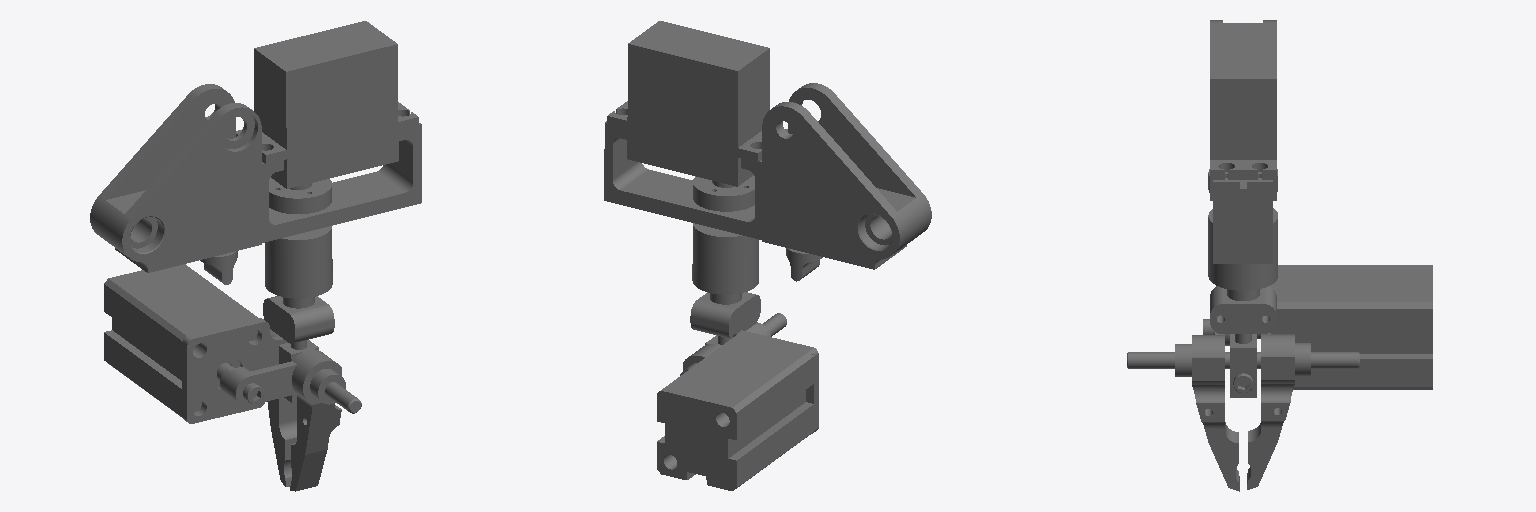
--- Render facts (derived) ---
The picture shows the robot from 3 angles, left to right: view 1: azimuth 30°, elevation 25°; view 2: azimuth 150°, elevation 25°; view 3: azimuth 270°, elevation 25°; orthographic projection.
Robot: magician — 14 links, 13 joints (6 revolute, 2 prismatic, 5 fixed); root link world; default pose: all joints at 0.
Links seen in each view (by area): view 1: wrist, tong_right, gripper_body, tong_left; view 2: wrist, tong_right, gripper_body; view 3: tong_right, wrist, gripper_body, tong_left.
Boxes of the visible links, box(x1,y1,x2,y2) form: wrist: box(90, 21, 421, 284); tong_right: box(104, 264, 296, 486); gripper_body: box(263, 226, 361, 413); tong_left: box(217, 349, 345, 491); wrist: box(604, 21, 931, 281); tong_right: box(657, 330, 818, 490); gripper_body: box(690, 223, 786, 345); tong_right: box(1247, 265, 1432, 489); wrist: box(1208, 20, 1277, 263); gripper_body: box(1127, 208, 1359, 397); tong_left: box(1175, 319, 1260, 491).
Size in the robot's own frame: 0.1078 by 0.092 by 0.1485 metres.
Meshes: 8 distinct files referenced, 4 mesh visuals loaded (4 Collada DAE); not drawn: 4 (reference not matched to a file when rendering).

robot.urdf — magician:
<?xml version="1.0" ?>
<!-- =================================================================================== -->
<!-- |    This document was autogenerated by xacro from /catkin_ws/src/dobot_DT/dobot_description/urdf/dobot.urdf.xacro | -->
<!-- |    EDITING THIS FILE BY HAND IS NOT RECOMMENDED                                 | -->
<!-- =================================================================================== -->
<!-- This URDF was automatically created by SolidWorks to URDF Exporter! Originally created by Stephen Brawner ([email redacted]) 
     Commit Version: 1.5.0-0-g9aa0fdb  Build Version: 1.5.7004.21443
     For more information, please see http://wiki.ros.org/sw_urdf_exporter -->
<robot name="magician">
    <!-- ros_control plugin -->
    <gazebo>
        <plugin filename="libgazebo_ros_control.so" name="gazebo_ros_control">
            <robotSimType>gazebo_ros_control/DefaultRobotHWSim</robotSimType>
            <legacyModeNS>true</legacyModeNS>
            <robotNamespace>/</robotNamespace>
        </plugin>
    </gazebo>
    <!-- MIMIC JOINTS -->
    <gazebo>
        <plugin filename="libroboticsgroup_gazebo_mimic_joint_plugin.so" name="mimic_plugin1">
            <joint>joint2</joint>
            <mimicJoint>joint2_1</mimicJoint>
            <multiplier>-1.0</multiplier>
        </plugin>
    </gazebo>
    <gazebo>
        <plugin filename="libroboticsgroup_gazebo_mimic_joint_plugin.so" name="mimic_plugin2">
            <joint>joint3</joint>
            <mimicJoint>joint3_1</mimicJoint>
            <multiplier>-1.0</multiplier>
        </plugin>
    </gazebo>
    <gazebo>
        <plugin filename="libroboticsgroup_gazebo_mimic_joint_plugin.so" name="mimic_plugin3">
            <joint>joint5</joint>
            <mimicJoint>joint5_1</mimicJoint>
            <multiplier>1.0</multiplier>
        </plugin>
    </gazebo>
    <!-- Decoration links-->
    <!--
	<gazebo>
                <plugin name="mimic_plugin4" filename="libroboticsgroup_gazebo_mimic_joint_plugin.so">
                        <joint>joint3</joint>
                        <mimicJoint>joint3_2</mimicJoint>
                        <multiplier>1.0</multiplier>
                </plugin>
	</gazebo>

	
	<gazebo>
                <plugin name="mimic_plugin5" filename="libroboticsgroup_gazebo_mimic_joint_plugin.so">
                        <joint>joint2</joint>
                        <mimicJoint>joint2_2</mimicJoint>
                        <multiplier>1.0</multiplier>
                </plugin>
        </gazebo>
	
	
        <gazebo>
                <plugin name="mimic_plugin6" filename="libroboticsgroup_gazebo_mimic_joint_plugin.so">
                        <joint>joint3</joint>
                        <mimicJoint>joint3_3</mimicJoint>
                        <multiplier>-1.0</multiplier>
                </plugin>
        </gazebo>

	
        <gazebo>
                <plugin name="mimic_plugin7" filename="libroboticsgroup_gazebo_mimic_joint_plugin.so">
                        <joint>joint2</joint>
                        <mimicJoint>joint2_3</mimicJoint>
                        <multiplier>1.0</multiplier>
                </plugin>
	</gazebo>

	
        <gazebo>
                <plugin name="mimic_plugin8" filename="libroboticsgroup_gazebo_mimic_joint_plugin.so">
                        <joint>joint2</joint>
                        <mimicJoint>joint2_4</mimicJoint>
                        <multiplier>-1.0</multiplier>
                </plugin>
        </gazebo>

	
        <gazebo>
                <plugin name="mimic_plugin9" filename="libroboticsgroup_gazebo_mimic_joint_plugin.so">
                        <joint>joint3</joint>
                        <mimicJoint>joint3_4</mimicJoint>
                        <multiplier>1.0</multiplier>
                </plugin>
        </gazebo>
	-->
    <!-- VISUAL -->
    <gazebo reference="arm">
        <visual name="visual">
            <material>
                <script>
                    <uri>file://media/materials/scripts/gazebo.material</uri>
                    <name>Gazebo/Grey</name>
                </script>
            </material>
        </visual>
    </gazebo>
    <gazebo reference="forearm">
        <visual name="visual">
            <material>
                <script>
                    <uri>file://media/materials/scripts/gazebo.material</uri>
                    <name>Gazebo/Grey</name>
                </script>
            </material>
        </visual>
    </gazebo>
    <gazebo reference="wrist">
        <visual name="visual">
            <material>
                <script>
                    <uri>file://media/materials/scripts/gazebo.material</uri>
                    <name>Gazebo/Grey</name>
                </script>
            </material>
        </visual>
    </gazebo>
    <gazebo reference="gripper_body">
        <visual name="visual">
            <material>
                <script>
                    <uri>file://media/materials/scripts/gazebo.material</uri>
                    <name>Gazebo/Grey</name>
                </script>
            </material>
        </visual>
    </gazebo>
    <gazebo reference="tong_left">
        <visual name="visual">
            <material>
                <script>
                    <uri>file://media/materials/scripts/gazebo.material</uri>
                    <name>Gazebo/Grey</name>
                </script>
            </material>
        </visual>
    </gazebo>
    <gazebo reference="tong_right">
        <visual name="visual">
            <material>
                <script>
                    <uri>file://media/materials/scripts/gazebo.material</uri>
                    <name>Gazebo/Grey</name>
                </script>
            </material>
        </visual>
    </gazebo>
    <!-- Decoration links -->
    <!--
	<gazebo reference="elipse">
                <visual name='visual'>
                        <material>
                                <script>
                                        <uri>file://media/materials/scripts/gazebo.material</uri>
                                        <name>Gazebo/Grey</name>
                                </script>
                        </material>
                </visual>
        </gazebo>

	
        <gazebo reference="bone_elipse">
                <visual name='visual'>
                        <material>
                                <script>
                                        <uri>file://media/materials/scripts/gazebo.material</uri>
                                        <name>Gazebo/Grey</name>
                                </script>
                        </material>
                </visual>
	</gazebo>

	
        <gazebo reference="bone_arm">
                <visual name='visual'>
                        <material>
                                <script>
                                        <uri>file://media/materials/scripts/gazebo.material</uri>
                                        <name>Gazebo/Grey</name>
                                </script>
                        </material>
                </visual>
        </gazebo>

	
        <gazebo reference="union_arm">
                <visual name='visual'>
                        <material>
                                <script>
                                        <uri>file://media/materials/scripts/gazebo.material</uri>
                                        <name>Gazebo/Grey</name>
                                </script>
                        </material>
                </visual>
	</gazebo>

	
        <gazebo reference="bone_forearm">
                <visual name='visual'>
                        <material>
                                <script>
                                        <uri>file://media/materials/scripts/gazebo.material</uri>
                                        <name>Gazebo/Grey</name>
                                </script>
                        </material>
                </visual>
	</gazebo>
	-->
    <!-- CAMERA -->
    <gazebo reference="camera_link">
        <material>Gazebo/White</material>
        <sensor name="camera" type="camera">
            <pose>0 0 0 0 0 0</pose>
            <visualize>true</visualize>
            <update_rate>10</update_rate>
            <camera name="camera">
                <horizontal_fov>1.089</horizontal_fov>
                <!--horizontal field of view (in rad)-->
                <image>
                    <format>R8G8B8</format>
                    <!--8 byts of Red, Green and Blue-->
                    <width>640</width>
                    <height>480</height>
                </image>
                <clip>
                    <near>0.01</near>
                    <!--See as close as 1 cm-->
                    <far>8.0</far>
                    <!--See as far as 8 m-->
                </clip>
            </camera>
            <plugin filename="libgazebo_ros_camera.so" name="camera_controller">
                <frameName>camera_link_optical</frameName>
                <!--Even though the plugin is attached to 'camera_link', the frame associated is-->
                <!--'camera_link_optical' so when it publishes the image data, the image data is-->
                <!--associated with 'camera_link_optical', although we are using the link-->
                <!--'camera_link'-->
                <imageTopicName>image_raw</imageTopicName>
                <cameraInfoTopicName>camera_info</cameraInfoTopicName>
                <cameraName>/dobot/camera</cameraName>
            </plugin>
        </sensor>
    </gazebo>
    <transmission name="joint1_trans">
        <type>transmission_interface/SimpleTransmission</type>
        <joint name="joint1">
            <hardwareInterface>hardware_interface/PositionJointInterface</hardwareInterface>
        </joint>
        <actuator name="joint1_motor">
            <mechanicalReduction>1</mechanicalReduction>
            <hardwareInterface>hardware_interface/EffortJointInterface</hardwareInterface>
        </actuator>
    </transmission>
    <transmission name="joint2_trans">
        <type>transmission_interface/SimpleTransmission</type>
        <joint name="joint2">
            <hardwareInterface>hardware_interface/PositionJointInterface</hardwareInterface>
        </joint>
        <actuator name="joint2_motor">
            <mechanicalReduction>1</mechanicalReduction>
            <hardwareInterface>hardware_interface/EffortJointInterface</hardwareInterface>
        </actuator>
    </transmission>
    <transmission name="joint2_1_trans">
        <type>transmission_interface/SimpleTransmission</type>
        <joint name="joint2_1">
            <hardwareInterface>hardware_interface/PositionJointInterface</hardwareInterface>
        </joint>
        <actuator name="joint2_1_motor">
            <mechanicalReduction>1</mechanicalReduction>
            <hardwareInterface>hardware_interface/EffortJointInterface</hardwareInterface>
        </actuator>
    </transmission>
    <transmission name="joint3_trans">
        <type>transmission_interface/SimpleTransmission</type>
        <joint name="joint3">
            <hardwareInterface>hardware_interface/PositionJointInterface</hardwareInterface>
        </joint>
        <actuator name="joint3_motor">
            <mechanicalReduction>1</mechanicalReduction>
            <hardwareInterface>hardware_interface/EffortJointInterface</hardwareInterface>
        </actuator>
    </transmission>
    <transmission name="joint3_1_trans">
        <type>transmission_interface/SimpleTransmission</type>
        <joint name="joint3_1">
            <hardwareInterface>hardware_interface/PositionJointInterface</hardwareInterface>
        </joint>
        <actuator name="joint3_1_motor">
            <mechanicalReduction>1</mechanicalReduction>
            <hardwareInterface>hardware_interface/EffortJointInterface</hardwareInterface>
        </actuator>
    </transmission>
    <transmission name="joint4_trans">
        <type>transmission_interface/SimpleTransmission</type>
        <joint name="joint4">
            <hardwareInterface>hardware_interface/PositionJointInterface</hardwareInterface>
        </joint>
        <actuator name="joint4_motor">
            <mechanicalReduction>1</mechanicalReduction>
            <hardwareInterface>hardware_interface/EffortJointInterface</hardwareInterface>
        </actuator>
    </transmission>
    <transmission name="joint5_trans">
        <type>transmission_interface/SimpleTransmission</type>
        <joint name="joint5">
            <hardwareInterface>hardware_interface/PositionJointInterface</hardwareInterface>
        </joint>
        <actuator name="joint5_motor">
            <mechanicalReduction>1</mechanicalReduction>
            <hardwareInterface>hardware_interface/EffortJointInterface</hardwareInterface>
        </actuator>
    </transmission>
    <transmission name="joint5_1_trans">
        <type>transmission_interface/SimpleTransmission</type>
        <joint name="joint5_1">
            <hardwareInterface>hardware_interface/PositionJointInterface</hardwareInterface>
        </joint>
        <actuator name="joint5_1_motor">
            <mechanicalReduction>1</mechanicalReduction>
            <hardwareInterface>hardware_interface/EffortJointInterface</hardwareInterface>
        </actuator>
    </transmission>
    <!-- Decoration links -->
    <!--
	<transmission name="joint3_2_trans">
                <type>transmission_interface/SimpleTransmission</type>
                <joint name="joint3_2">
                        <hardwareInterface>hardware_interface/PositionJointInterface</hardwareInterface>
                </joint>
                <actuator name="joint3_2_motor">
                        <mechanicalReduction>1</mechanicalReduction>
                </actuator>
        </transmission>

		
        <transmission name="joint2_2_trans">
                <type>transmission_interface/SimpleTransmission</type>
                <joint name="joint2_2">
                        <hardwareInterface>hardware_interface/PositionJointInterface</hardwareInterface>
                </joint>
                <actuator name="joint2_2_motor">
                        <mechanicalReduction>1</mechanicalReduction>
                </actuator>
        </transmission>
	
	
        <transmission name="joint3_3_trans">
                <type>transmission_interface/SimpleTransmission</type>
                <joint name="joint3_3">
                        <hardwareInterface>hardware_interface/PositionJointInterface</hardwareInterface>
                </joint>
                <actuator name="joint3_3_motor">
                        <mechanicalReduction>1</mechanicalReduction>
                </actuator>
        </transmission>

	
        <transmission name="joint2_3_trans">
                <type>transmission_interface/SimpleTransmission</type>
                <joint name="joint2_3">
                        <hardwareInterface>hardware_interface/PositionJointInterface</hardwareInterface>
                </joint>
                <actuator name="joint2_3_motor">
                        <mechanicalReduction>1</mechanicalReduction>
                </actuator>
	</transmission>

	
        <transmission name="joint2_4_trans">
                <type>transmission_interface/SimpleTransmission</type>
                <joint name="joint2_4">
                        <hardwareInterface>hardware_interface/PositionJointInterface</hardwareInterface>
                </joint>
                <actuator name="joint2_4_motor">
                        <mechanicalReduction>1</mechanicalReduction>
                </actuator>
        </transmission>

	
        <transmission name="joint3_4_trans">
                <type>transmission_interface/SimpleTransmission</type>
                <joint name="joint3_4">
                        <hardwareInterface>hardware_interface/PositionJointInterface</hardwareInterface>
                </joint>
                <actuator name="joint3_4_motor">
                        <mechanicalReduction>1</mechanicalReduction>
                </actuator>
	</transmission>
	-->
    <material name="white">
        <color rgba="1 1 1 1" />
    </material>
    <link name="world" />
    <link name="origin" />
    <joint name="world_joint" type="fixed">
        <origin rpy="0 0 0" xyz="0 0 0" />
        <parent link="world" />
        <child link="origin" />
        <axis xyz="0 0 0" />
    </joint>
    <link name="base">
        <inertial>
            <origin rpy="0 0 0" xyz="-0.000406699 -0.000364555 0.026663954" />
            <mass value="0.264204843750" />
            <inertia ixx="0.000873183424" ixy="-1.83300825E-06" ixz="-5.1220777344E-08" iyy="0.000847449600" iyz="4.185195E-06" izz="0.001554581504" />
        </inertial>
        <visual>
            <origin rpy="3.141593 0 -1.570796" xyz="0.069 0.06903 0.051" />
            <geometry>
                <mesh filename="package://dobot_description/meshes_polman_dae/base.dae" />
            </geometry>
            <material name="">
                <color rgba="1 1 1 1" />
            </material>
        </visual>
        <collision>
            <origin rpy="3.141593 0 -1.570796" xyz="0.069 0.06903 0.051" />
            <geometry>
                <mesh filename="package://dobot_description/meshes_polman_dae/base.dae" />
            </geometry>
        </collision>
    </link>
    <joint name="base_joint" type="fixed">
        <origin rpy="0 0 0" xyz="0 0 0" />
        <parent link="origin" />
        <child link="base" />
        <axis xyz="0 0 0" />
    </joint>
    <link name="shoulder">
        <inertial>
            <origin rpy="0 0 0" xyz="0.000313712 0.001053757 0.056294592" />
            <mass value="0.53733725" />
            <inertia ixx="0.001830523008" ixy="5.7502605E-06" ixz="3.3040254E-05" iyy="0.000922039872" iyz="2.1950854E-05" izz="0.001461953664" />
        </inertial>
        <visual>
            <origin rpy="3.141593 0 -1.570796" xyz="0.069 0.06903 0" />
            <geometry>
                <mesh filename="package://dobot_description/meshes_polman_dae/shoulder.dae" />
            </geometry>
            <material name="">
                <color rgba="1 1 1 1" />
            </material>
        </visual>
        <collision>
            <origin rpy="3.141593 0 -1.570796" xyz="0.069 0.06903 0" />
            <geometry>
                <mesh filename="package://dobot_description/meshes_polman_dae/shoulder.dae" />
            </geometry>
        </collision>
    </link>
    <joint name="joint1" type="revolute">
        <origin rpy="0 0 0" xyz="0 0 0.051" />
        <parent link="base" />
        <child link="shoulder" />
        <axis xyz="0 0 1" />
        <limit effort="6" lower="-1.570796327" upper="1.570796327" velocity="1.570796" />
        <dynamics damping="0.25" friction="0.25" />
    </joint>
    <link name="arm">
        <inertial>
            <origin rpy="0 0 0" xyz="-0.062879635 0.036444382 0.002666960" />
            <mass value="0.093947523438" />
            <inertia ixx="8.0474312E-05" ixy="-2.236132656E-07" ixz="-4.17319875E-06" iyy="0.000266169232" iyz="2.51564475E-06" izz="0.000299244192" />
        </inertial>
        <visual>
            <origin rpy="-0.698131701 1.570796327 -1.570796327" xyz="0.003065374 -0.110998115 0.06903" />
            <geometry>
                <mesh filename="package://dobot_description/meshes_polman_dae/arm_structure.dae" />
            </geometry>
            <material name="">
                <color rgba="0.501960784313725 0.501960784313725 0.501960784313725 1" />
            </material>
        </visual>
        <collision>
            <origin rpy="-0.698131701 1.570796327 -1.570796327" xyz="0.003065374 -0.110998115 0.06903" />
            <geometry>
                <mesh filename="package://dobot_description/meshes_polman_dae/arm_structure.dae" />
            </geometry>
        </collision>
    </link>
    <joint name="joint2" type="revolute">
        <origin rpy="-1.570796327 1.570796327 0" xyz="0 0 0.086999874" />
        <parent link="shoulder" />
        <child link="arm" />
        <axis xyz="0 0 1" />
        <limit effort="6" lower="0" upper="1.483529864" velocity="1.570796" />
        <dynamics damping="0.25" friction="0.25" />
    </joint>
    <link name="fake_link1">
        <inertial>
            <origin rpy="0 0 0" xyz="0 0 0" />
            <mass value="0.025" />
            <inertia ixx="2.5E-4" ixy="0" ixz="0" iyy="2.5E-4" iyz="0" izz="2.5E-4" />
        </inertial>
    </link>
    <joint name="joint2_1" type="revolute">
        <origin rpy="0 0 0" xyz="-0.134999185 0 0" />
        <parent link="arm" />
        <child link="fake_link1" />
        <axis xyz="0 0 1" />
        <limit effort="6" lower="-1.483529864" upper="-0" velocity="1.570796" />
        <dynamics damping="0.25" friction="0.25" />
        <mimic joint="joint2" multiplier="-1" offset="0" />
    </joint>
    <link name="forearm">
        <inertial>
            <origin rpy="0 0 0" xyz="-0.054115891 0.036343987 0.000045962" />
            <mass value="0.063845093750" />
            <inertia ixx="4.3627868E-05" ixy="-8.2319485E-06" ixz="-3.2654475E-07" iyy="0.000181050608" iyz="1.464839063E-07" izz="0.000202882272" />
        </inertial>
        <visual>
            <origin rpy="0.466735827 1.570796327 -1.570796327" xyz="-0.04733249 -0.170619932 0.06903" />
            <geometry>
                <mesh filename="package://dobot_description/meshes_polman_dae/forearm_structure.dae" />
            </geometry>
            <material name="">
                <color rgba="0.501960784313725 0.501960784313725 0.501960784313725 1" />
            </material>
        </visual>
        <collision>
            <origin rpy="0.466735827 1.570796327 -1.570796327" xyz="-0.04733249 -0.170619932 0.06903" />
            <geometry>
                <mesh filename="package://dobot_description/meshes_polman_dae/forearm_structure.dae" />
            </geometry>
        </collision>
    </link>
    <joint name="joint3" type="revolute">
        <origin rpy="0 0 1.396263402" xyz="0 0 0" />
        <parent link="fake_link1" />
        <child link="forearm" />
        <axis xyz="0 0 1" />
        <limit effort="6" lower="0" upper="1.745329252" velocity="1.570796" />
        <dynamics damping="0.25" friction="0.25" />
    </joint>
    <link name="wrist">
        <inertial>
            <origin rpy="0 0 0" xyz="-0.052118221 0.011854436 0.000061119" />
            <mass value="0.0675455625" />
            <inertia ixx="2.0539562E-05" ixy="1.1851567E-05" ixz="-4.5501863281E-08" iyy="5.0530672E-05" iyz="-3.7855835938E-08" izz="6.6391708E-05" />
        </inertial>
        <visual>
            <origin rpy="0 1.570796327 -1.570796327" xyz="0.165782069 -0.107522813 0.06903" />
            <geometry>
                <mesh filename="package://dobot_description/meshes_polman_dae/wrist.dae" />
            </geometry>
            <material name="">
                <color rgba="0.501960784313725 0.501960784313725 0.501960784313725 1" />
            </material>
        </visual>
        <collision>
            <origin rpy="0 1.570796327 -1.570796327" xyz="0.165782069 -0.107522813 0.06903" />
            <geometry>
                <mesh filename="package://dobot_description/meshes_polman_dae/wrist.dae" />
            </geometry>
        </collision>
    </link>
    <joint name="joint3_1" type="revolute">
        <origin rpy="0 0 0.174532925" xyz="-0.14700014 0 0" />
        <parent link="forearm" />
        <child link="wrist" />
        <axis xyz="0 0 1" />
        <limit effort="6" lower="-1.745329252" upper="0" velocity="1.570796" />
        <dynamics damping="0.25" friction="0.25" />
        <mimic joint="joint3" multiplier="-1" offset="0" />
    </joint>
    <link name="gripper_body">
        <inertial>
            <origin rpy="0 0 0" xyz="0.000074916 0.000025971 -0.022940840" />
            <mass value="0.012127704102" />
            <inertia ixx="3.9699175E-06" ixy="-1.04692E-13" ixz="1.727318555E-08" iyy="3.39021175E-06" iyz="-3.26953E-13" izz="1.0754565E-06" />
        </inertial>
        <visual>
            <origin rpy="0 3.141592654 1.570796327" xyz="-0.225554410 0.06903 -0.092813586" />
            <geometry>
                <mesh filename="package://dobot_description/meshes_polman_dae/gripper_body.dae" />
            </geometry>
            <material name="">
                <color rgba="0.501960784313725 0.501960784313725 0.501960784313725 1" />
            </material>
        </visual>
        <collision>
            <origin rpy="0 3.141593 1.570796" xyz="-0.225554410 0.06903 -0.092813586" />
            <geometry>
                <mesh filename="package://dobot_description/meshes_polman_dae/gripper_body.dae" />
            </geometry>
        </collision>
    </link>
    <joint name="joint4" type="revolute">
        <origin rpy="-1.570796327 3.141592654 0" xyz="-0.059772341 -0.014709228 0" />
        <parent link="wrist" />
        <child link="gripper_body" />
        <axis xyz="0 0 1" />
        <limit effort="6" lower="-1.570796327" upper="1.570796327" velocity="1.570796" />
    </joint>
    <link name="tong_left">
        <inertial>
            <origin rpy="0 0 0" xyz="-0.007646646 -0.006969645 -0.002041771" />
            <mass value="0.005982816895" />
            <inertia ixx="1.73376E-06" ixy="3.3150575E-07" ixz="-5.353973125E-07" iyy="1.64147625E-06" iyz="1.299258828E-07" izz="1.499253875E-06" />
        </inertial>
        <visual>
            <origin rpy="-1.570796327 -1.570796327 0.004868" xyz="0.032011802 -0.002344217 -0.054450966" />
            <geometry>
                <mesh filename="package://dobot_description/meshes_polman_dae/tong_left.dae" />
            </geometry>
            <material name="">
                <color rgba="0.501960784313725 0.501960784313725 0.501960784313725 1" />
            </material>
        </visual>
        <collision>
            <origin rpy="-1.570796327 -1.570796327 0.004868" xyz="0.032011802 -0.002344217 -0.054450966" />
            <geometry>
                <mesh filename="package://dobot_description/meshes_polman_dae/tong_left.dae" />
            </geometry>
        </collision>
    </link>
    <joint name="joint5" type="prismatic">
        <origin rpy="1.570796327 0 0" xyz="0.000232613 -0.005404984 -0.04778957" />
        <parent link="gripper_body" />
        <child link="tong_left" />
        <axis xyz="0 0 1" />
        <limit effort="6" lower="0" upper="0.02" velocity="1.570796" />
        <dynamics damping="0.25" friction="0.25" />
    </joint>
    <link name="tong_right">
        <inertial>
            <origin rpy="0 0 0" xyz="-0.020318691 0.000282597 0.023979198" />
            <mass value="0.040058562500" />
            <inertia ixx="1.3401245E-05" ixy="-7.0954825E-07" ixz="1.71945925E-06" iyy="1.3964473E-05" iyz="9.8886125E-07" izz="7.8976275E-06" />
        </inertial>
        <visual>
            <origin rpy="1.570796327 1.570796327 0.004867" xyz="0.032011800 0.002344207 0.043649019" />
            <geometry>
                <mesh filename="package://dobot_description/meshes_polman_dae/tong_right.dae" />
            </geometry>
            <material name="">
                <color rgba="0.501960784313725 0.501960784313725 0.501960784313725 1" />
            </material>
        </visual>
        <collision>
            <origin rpy="1.570796327 1.570796327 0.004867" xyz="0.032011800 0.002344207 0.043649019" />
            <geometry>
                <mesh filename="package://dobot_description/meshes_polman_dae/tong_right.dae" />
            </geometry>
        </collision>
    </link>
    <joint name="joint5_1" type="prismatic">
        <origin rpy="-1.570796327 0 0" xyz="0.000232634 0.005396949 -0.047789578" />
        <parent link="gripper_body" />
        <child link="tong_right" />
        <axis xyz="0 0 1" />
        <limit effort="6" lower="0" upper="0.02" velocity="1.5707906" />
        <dynamics damping="0.25" friction="0.25" />
        <mimic joint="joint5" multiplier="1" offset="0" />
    </joint>
    <link name="end_effector" />
    <joint name="end_effector_joint" type="fixed">
        <origin rpy="3.141592654 0 0" xyz="0 0 -0.076769716" />
        <parent link="gripper_body" />
        <child link="end_effector" />
        <axis xyz="0 0 0" />
    </joint>
    <link name="camera_link">
        <inertial>
            <origin rpy="0 0 0" xyz="0 0 0" />
            <mass value="0.001" />
            <inertia ixx="1.5E-09" ixy="0" ixz="0" iyy="8.333333E-10" iyz="0" izz="8.333333E-10" />
        </inertial>
        <visual>
            <origin rpy="0 0 0" xyz="0.0005 0 0" />
            <geometry>
                <box size="0.001 0.003 0.003" />
            </geometry>
            <material name="white" />
        </visual>
        <collision>
            <origin rpy="0 0 0" xyz="0.0005 0 0" />
            <geometry>
                <box size="0.001 0.003 0.003" />
            </geometry>
        </collision>
    </link>
    <joint name="camera_joint" type="fixed">
        <parent link="gripper_body" />
        <child link="camera_link" />
        <origin rpy="0 1.570796327 0" xyz="0 0 -0.057765122" />
    </joint>
    <link name="camera_link_optical" />
    <joint name="camera_optical_joint" type="fixed">
        <parent link="camera_link" />
        <child link="camera_link_optical" />
        <origin rpy="-1.570796327 0 -1.570796327" xyz="0 0 0" />
    </joint>
    <!-- Decoration links -->
    <!--
	<link name="elipse">
    		<inertial>
			<origin xyz="-0.011382469 0.000021944 -0.010967204" rpy="0 0 0" />
			<mass value="0.013230793945" />
      			<inertia
				ixx="9.679166875E-07"
				ixy="-4.817291504E-09"
				ixz="-4.176013125E-07"
				iyy="4.3285085E-06"
				iyz="-2.152251953E-09"
				izz="4.635627E-06" />
    		</inertial>
    		<visual>
      			<origin xyz="0.015001902 0.01499862 -0.012499999" rpy="0 0 3.141592654" />
      			<geometry>
        			<mesh filename="package://dobot_description/meshes_polman_dae/elipse.dae" />
      			</geometry>
     	 		<material name="">
        			<color rgba="0.501960784313725 0.501960784313725 0.501960784313725 1" />
      			</material>
    		</visual>
    		<collision>
      			<origin xyz="0.015001902 0.01499862 -0.012499999" rpy="0 0 3.141592654" />
      			<geometry>
        			<mesh filename="package://dobot_description/meshes_polman_dae/elipse.dae" />
      			</geometry>
    		</collision>
  	</link>
	

        <joint name="joint3_2" type="revolute">
		<origin xyz="0 0.001495286 0.086999874" rpy="-1.570796327 -0.174532925 0" />
                <parent link="shoulder" />
                <child link="elipse" />
                <axis xyz="0 0 1" />
                <limit
                        lower="${joint3_lower}"
                        upper="${joint3_upper}"
                        effort="6"
			velocity="1.570796" />
		<dynamics damping="0.25" friction="0.25"/>
		<mimic joint="joint3" multiplier="1" offset="0"/>
        </joint>
	
	
	<link name="fake_link2">
                <inertial>
                        <origin xyz="0 0 0" rpy="0 0 0" />
                        <mass value="0.0025" />
                        <inertia
                                ixx="2.5E-4"
                                ixy="0"
                                ixz="0"
                                iyy="2.5E-4"
                                iyz="0"
                                izz="2.5E-4" />
                </inertial>
        </link>



	<joint name="joint2_2" type="revolute">
		<origin xyz="-0.043001164 0 -0.006499998" rpy="0 0 1.745329252" />
		<parent link="elipse" />
    		<child link="fake_link2" />
    		<axis xyz="0 0 1" />
    		<limit
			lower="${joint2_lower}"
      			upper="${joint2_upper}"
      			effort="6"
			velocity="1.570796" />
		<dynamics damping="0.25" friction="0.25"/>	
    		<mimic joint="joint2" multiplier="1" offset="0"/>
  	</joint>
	
	
	<link name="bone_elipse">
    		<inertial>
			<origin xyz="-0.079067047 -0.000082521 -0.003041033" rpy="0 0 0" />
			<mass value="0.007562822754" />
      			<inertia
				ixx="1.203631406E-07"
				ixy="-1.852308594E-08"
				ixz="-2.150079219E-07"
				iyy="1.7466796E-05"
				iyz="-1.91887283E-10"
        			izz="1.7507754E-05" />
    		</inertial>
    		<visual>
      			<origin xyz="-0.013914916 -0.15050469 0.074034712" rpy="-0.6981317 1.570796327 -1.570796327" />
      			<geometry>
				<mesh filename="package://dobot_description/meshes_polman_dae/bone_elipse.dae" />
      			</geometry>
      			<material name="">
        			<color rgba="0.501960784313725 0.501960784313725 0.501960784313725 1" />
      			</material>
    		</visual>
    		<collision>
     	 		<origin xyz="-0.013914916 -0.15050469 0.074034712" rpy="-0.6981317 1.570796327 -1.570796327" />
      			<geometry>
        			<mesh filename="package://dobot_description/meshes_polman_dae/bone_elipse.dae" />
      			</geometry>
    		</collision>
  	</link>
	
	
	<joint name="joint3_3" type="revolute">
    		<origin xyz="0 0 0" rpy="0 0 0" />
    		<parent link="fake_link2" />
    		<child link="bone_elipse" />
    		<axis xyz="0 0 1" />
    		<limit
      			lower="${-1*joint3_upper}"
      			upper="${-1*joint3_lower}"
      			effort="6"
			velocity="1.570796" />
		<dynamics damping="0.25" friction="0.25"/>
    		<mimic joint="joint3" multiplier="-1" offset="0"/>
  	</joint>
	
	
        <link name="bone_arm">
                <inertial>
                        <origin xyz="-0.067504395 -0.000070100 0.002532891" rpy="0 0 0" />
                        <mass value="0.006266518066" />
                        <inertia
                                ixx="8.220957031E-08"
                                ixy="4.26397E-13"
                                ixz="1.4666E-14"
                                iyy="1.2537157E-05"
                                iyz="-6.448E-15"
                                izz="1.2592901E-05"/>
                </inertial>
                <visual>
                        <origin xyz="-0.067504266 0.003929867 0.002499994" rpy="3.141592654 0 0" />
                        <geometry>
                                <mesh filename="package://dobot_description/meshes_polman_dae/bone_arm.dae" />
                        </geometry>
                        <material name="">
                                <color rgba="0.501960784313725 0.501960784313725 0.501960784313725 1" />
                        </material>
                </visual>
                <collision>
                        <origin xyz="-0.067504266 0.003929867 0.002499994" rpy="3.141592654 0 0" />
                        <geometry>
                                <mesh filename="package://dobot_description/meshes_polman_dae/bone_arm.dae" />
                        </geometry>
                </collision>
        </link>
	

        <joint name="joint2_3" type="revolute">
                <origin xyz="-0.038067106 -4E-06 0.107" rpy="-1.570796327 1.570796327 0" />
                <parent link="shoulder" />
                <child link="bone_arm" />
                <axis xyz="0 0 1" />
                <limit
                        lower="${joint2_lower}"
                        upper="${joint2_upper}"
                        effort="6"
			velocity="1.570796" />
		<dynamics damping="0.25" friction="0.25"/>
                <mimic joint="joint2" multiplier="1" offset="0"/>
	</joint>
	
	
	<link name="union_arm">
                <inertial>
			<origin xyz="-0.036271415 -0.003786492 0.006586619" rpy="0 0 0" />
                        <mass value="0.009790955078" />
                        <inertia
				ixx="1.32838375E-06"
				ixy="5.439986875E-07"
				ixz="-1.300148926E-08"
				iyy="6.209614E-06"
				iyz="-1.197970703E-07"
                                izz="7.1867785E-06" />
                </inertial>
                <visual>
                        <origin xyz="-0.003560779 -0.193669026 0.069034013" rpy="0 1.570796327 -1.570796327" />
                        <geometry>
                                <mesh filename="package://dobot_description/meshes_polman_dae/union_arm.dae" />
                        </geometry>
                        <material name="">
                                <color rgba="0.501960784313725 0.501960784313725 0.501960784313725 1" />
                        </material>
                </visual>
                <collision>
                        <origin xyz="-0.003560779 -0.193669026 0.069034013" rpy="0 1.570796327 -1.570796327" />
                        <geometry>
                                <mesh filename="package://dobot_description/meshes_polman_dae/union_arm.dae" />
                        </geometry>
                </collision>
        </link>


        <joint name="joint2_4" type="revolute">
		<origin xyz="-0.134999185 0 0" rpy="0 0 1.570796327" />
		<parent link="bone_arm" />
                <child link="union_arm" />
                <axis xyz="0 0 1" />
                <limit
                        lower="${-1*joint2_upper}"
                        upper="${-1*joint2_lower}"
                        effort="6"
			velocity="1.570796" />
		<dynamics damping="0.25" friction="0.25"/>
                <mimic joint="joint2" multiplier="-1" offset="0"/>
        </joint>
	
	
	<link name="bone_forearm">
                <inertial>
			<origin xyz="-0.086260162 0.000010522 0.001946563" rpy="0 0 0" />
                        <mass value="0.008163498047" />
                        <inertia
				ixx="1.602970938E-07"
				ixy="2.38570459E-09"
				ixz="-2.894269375E-07"
				iyy="2.209208E-05"
				iyz="1.32095551E-10"
                                izz="2.2093156E-05" />
                </inertial>
                <visual>
                        <origin xyz="-0.030576818 -0.210205727 0.069033991" rpy="0.466875574 1.570796327 -1.570796327"/>
                        <geometry>
                                <mesh filename="package://dobot_description/meshes_polman_dae/bone_forearm.dae" />
                        </geometry>
                        <material name="">
                                <color rgba="0.501960784313725 0.501960784313725 0.501960784313725 1" />
                        </material>
                </visual>
                <collision>
                        <origin xyz="-0.030576818 -0.210205727 0.069033991" rpy="0.466875574 1.570796327 -1.570796327"/>
                        <geometry>
                                <mesh filename="package://dobot_description/meshes_polman_dae/bone_forearm.dae" />
                        </geometry>
                </collision>
	</link>

	
        <joint name="joint3_4" type="revolute">
		<origin xyz="-0.070869594 0.007802841 0" rpy="0 0 -0.174532925" />
                <parent link="union_arm" />
                <child link="bone_forearm" />
                <axis xyz="0 0 1" />
                <limit
                        lower="${joint3_lower}"
                        upper="${joint3_upper}"
                        effort="6"
			velocity="1.570796" />
		<dynamics damping="0.25" friction="0.25"/>
                <mimic joint="joint3" multiplier="1" offset="0"/>
	</joint>
	-->
</robot>
